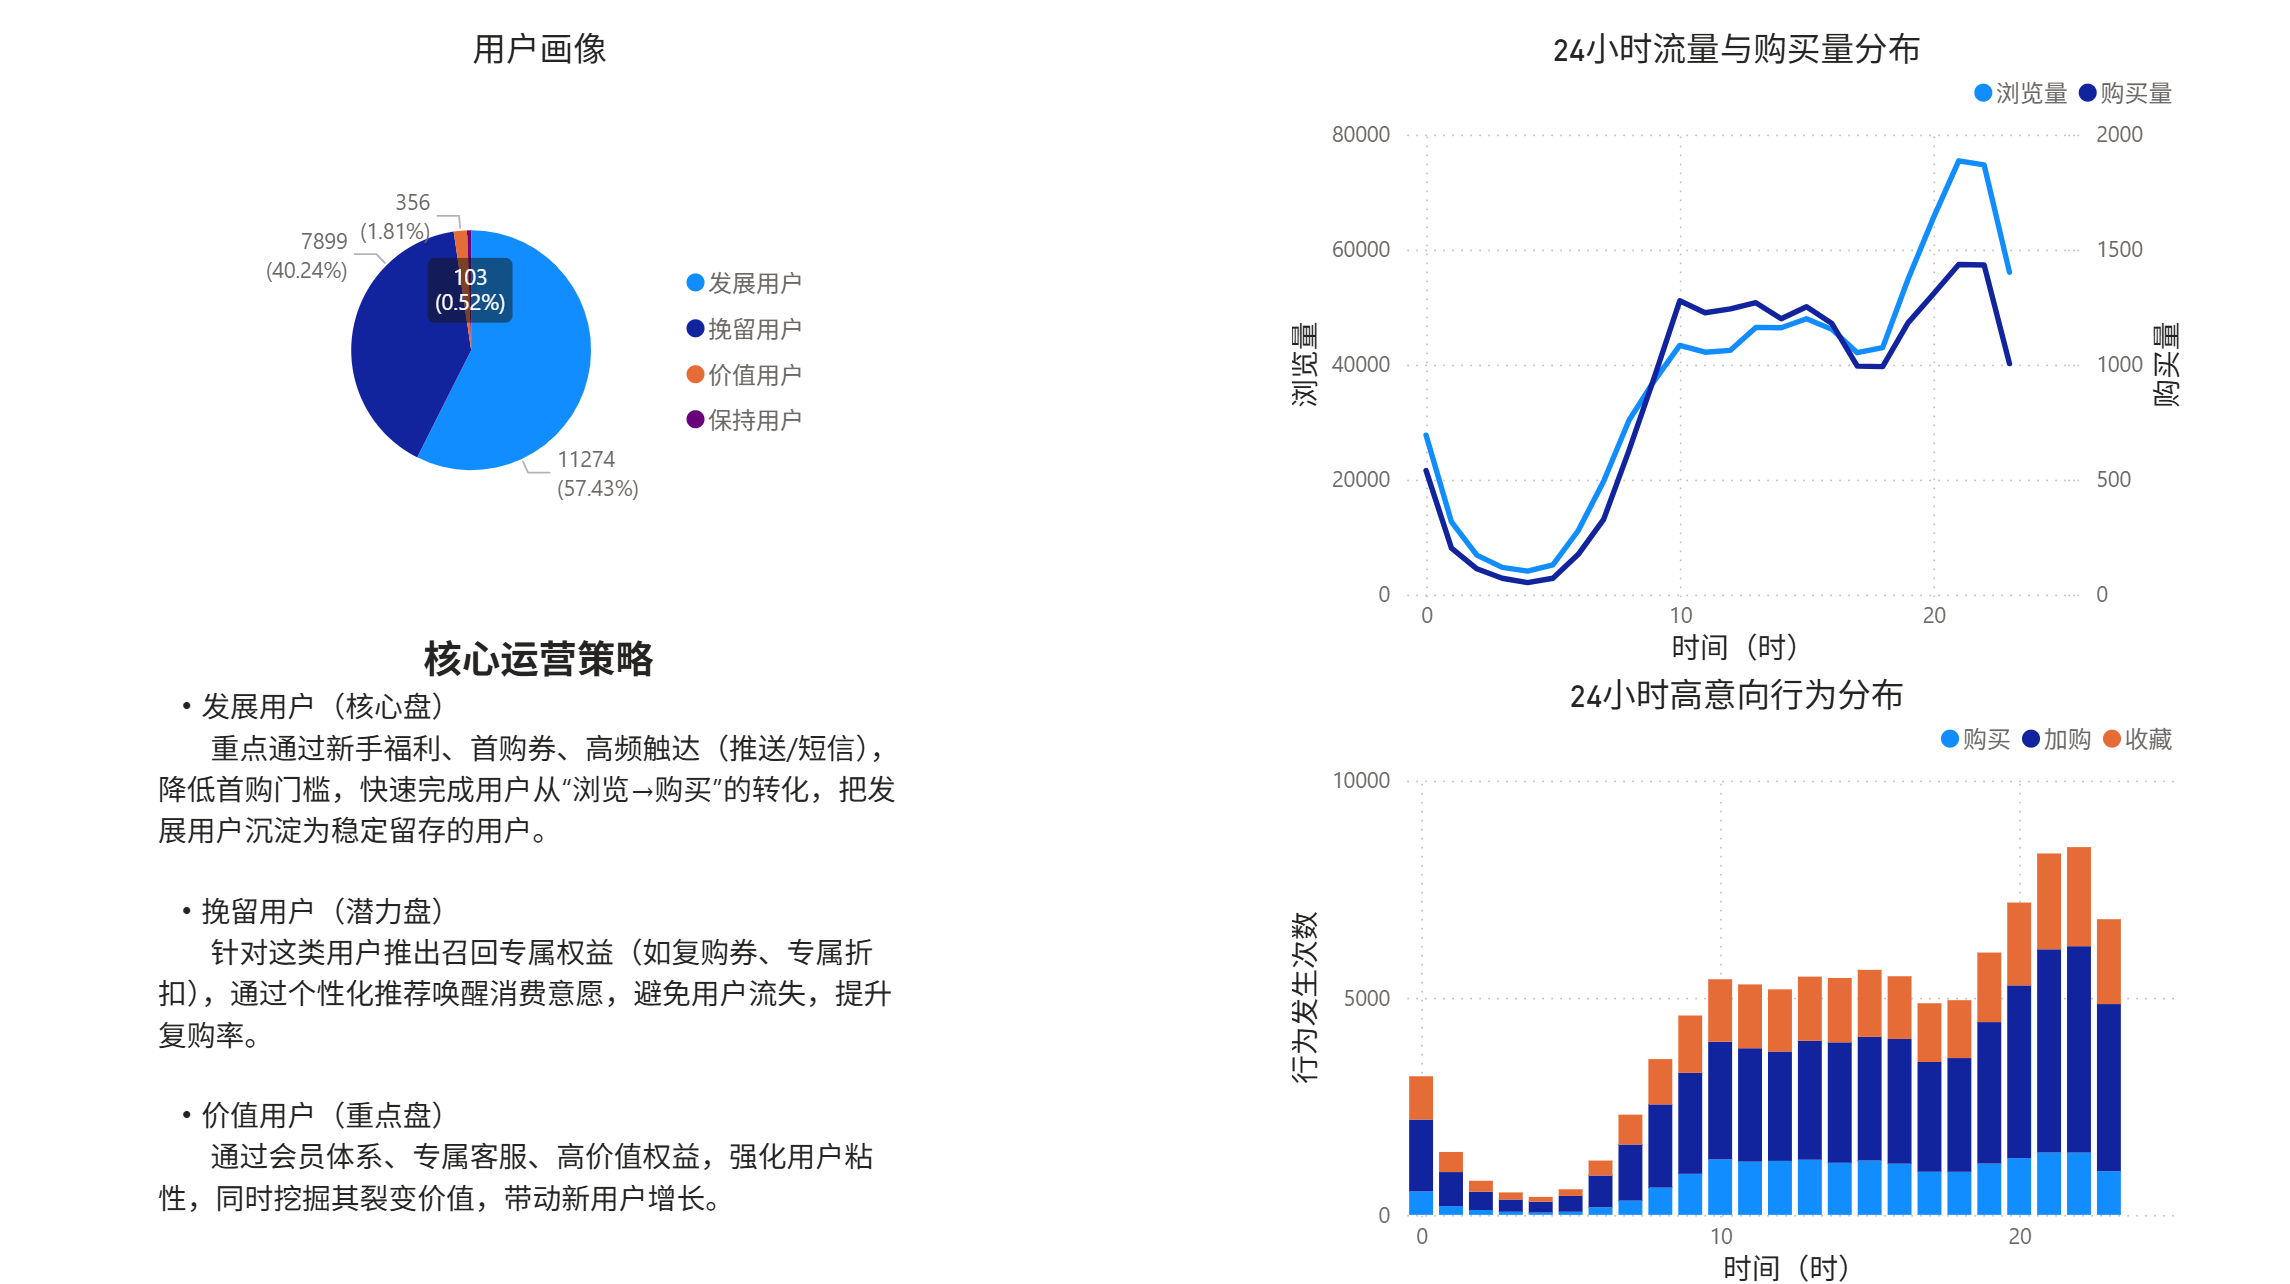

What the dashboard file says about the page in this screenshot:
{"tool":"powerbi","page":{"name":"用户画像与商品效能看板","canvas":[1280,720],"ordinal":1},"visuals":[{"type":"pieChart","title":"用户画像","fields":{"Category":["taobao_data rfm_model.class"],"Y":["CountNonNull(taobao_data rfm_model.user_id)"]},"box":[138.6,14.3,322.9,345.7],"z":0},{"type":"textbox","box":[82.9,347.1,432.9,357.1],"z":1000},{"type":"columnChart","title":"24小时高意向行为分布","fields":{"Category":["taobao_data date_hour_behavior.hours"],"Y":["Sum(taobao_data date_hour_behavior.buy)","Sum(taobao_data date_hour_behavior.cart)","Sum(taobao_data date_hour_behavior.fav)"]},"box":[712.9,372.9,504.3,347.1],"z":2000},{"type":"lineChart","title":"24小时流量与购买量分布","fields":{"Category":["taobao_data date_hour_behavior.hours"],"Y":["Sum(taobao_data date_hour_behavior.pv)"],"Y2":["Sum(taobao_data date_hour_behavior.buy)"]},"box":[712.9,14.3,504.3,361.4],"z":3000}]}

Visuals, with their boxes in screenshot pixels (x1, y1, x2, y2), scaled from the page's 1280x720 canvas onto the 2290x1284 screenshot:
"用户画像" pieChart: 248,26,826,642
textbox: 148,619,923,1256
"24小时高意向行为分布" columnChart: 1275,665,2178,1283
"24小时流量与购买量分布" lineChart: 1275,26,2178,670
